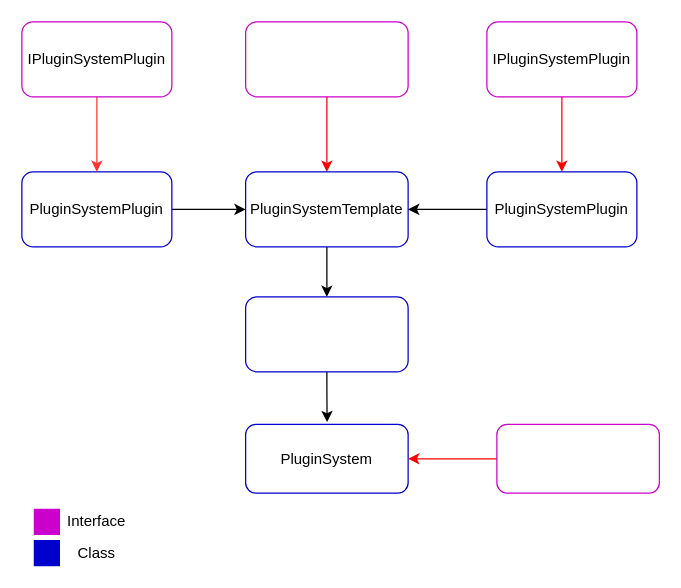
Image size: 681x588. Some labels were removed from this diagram. The shapes that lost their labels are listed below. From the top down, each one's box as (x1, y1, x2, y2) in pixels, then its label:
(244, 21, 408, 97): IPluginSystemTmplate
(244, 296, 408, 372): PluginSystemFactory
(496, 423, 659, 493): IPluginSystem
